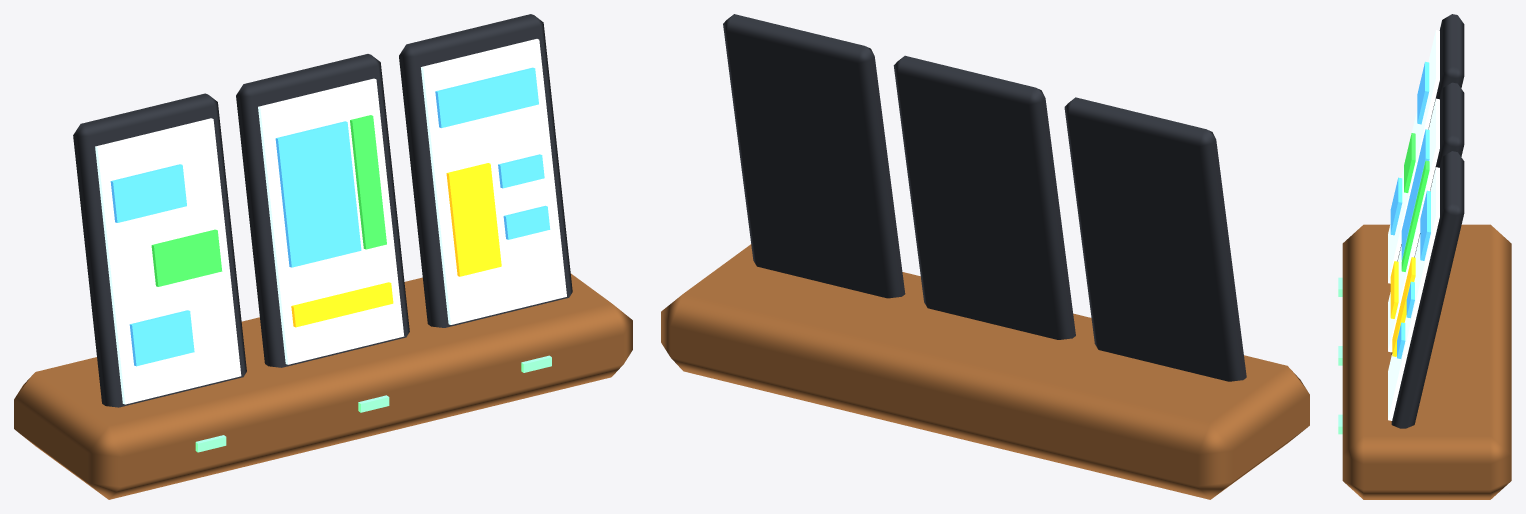
Rendered from station_transport_ausstattung_3_2.glb.
The picture shows the model from 3 angles, left to right: view 1: azimuth 30°, elevation 25°; view 2: azimuth 150°, elevation 25°; view 3: azimuth 270°, elevation 25°; orthographic projection. The views are drawn at different scales.
Visible parts, largest first — view 1: station_transport_ausstattung_3_2; view 2: station_transport_ausstattung_3_2; view 3: station_transport_ausstattung_3_2.
Boxes of the visible parts, left/top/right/bottom form: station_transport_ausstattung_3_2: left=14, top=14, right=632, bottom=499; station_transport_ausstattung_3_2: left=661, top=14, right=1309, bottom=499; station_transport_ausstattung_3_2: left=1338, top=14, right=1511, bottom=499.
Bounding box in the file's own units: 0.385 × 0.2233 × 0.123.
